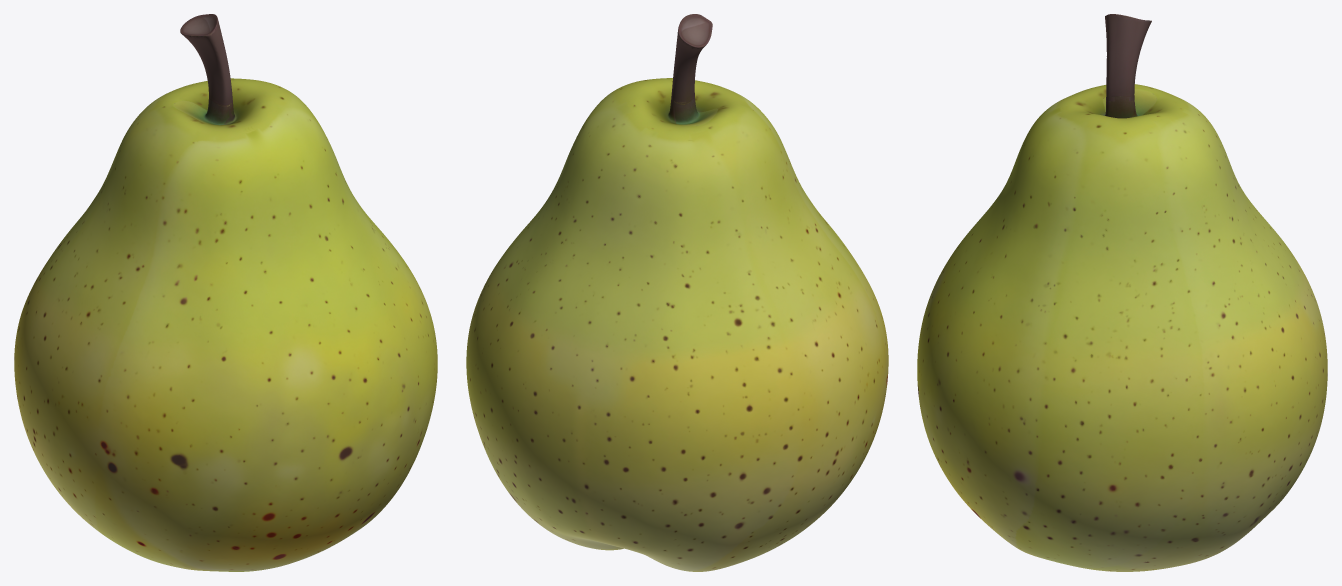
Rendered from pear.glb.
3 views of the same model, side by side, from view 1: azimuth 30°, elevation 25°; view 2: azimuth 150°, elevation 25°; view 3: azimuth 270°, elevation 25° (orthographic).
Size of the model in its own units: 1.36 by 1.9 by 1.36.
1 material, 1 textured.
